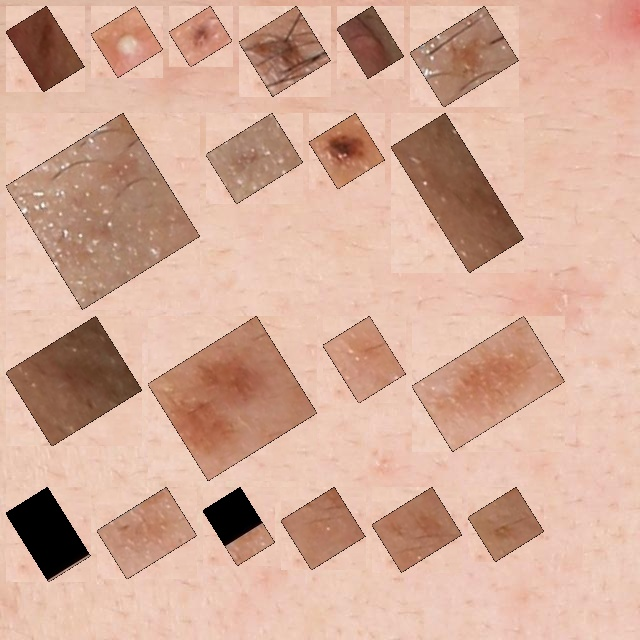melasma: (17, 124, 189, 298), (159, 327, 306, 469), (402, 124, 513, 261), (423, 327, 554, 440), (17, 327, 131, 435), (421, 17, 508, 96), (108, 498, 186, 568), (217, 124, 292, 192), (17, 498, 79, 571), (383, 498, 451, 561), (334, 327, 395, 392), (292, 498, 354, 559), (479, 498, 533, 550), (214, 498, 264, 554)
nevus: (250, 17, 320, 85), (17, 17, 73, 81), (320, 124, 374, 178), (180, 17, 221, 56)
pustule: (102, 17, 152, 66), (348, 17, 393, 67)
